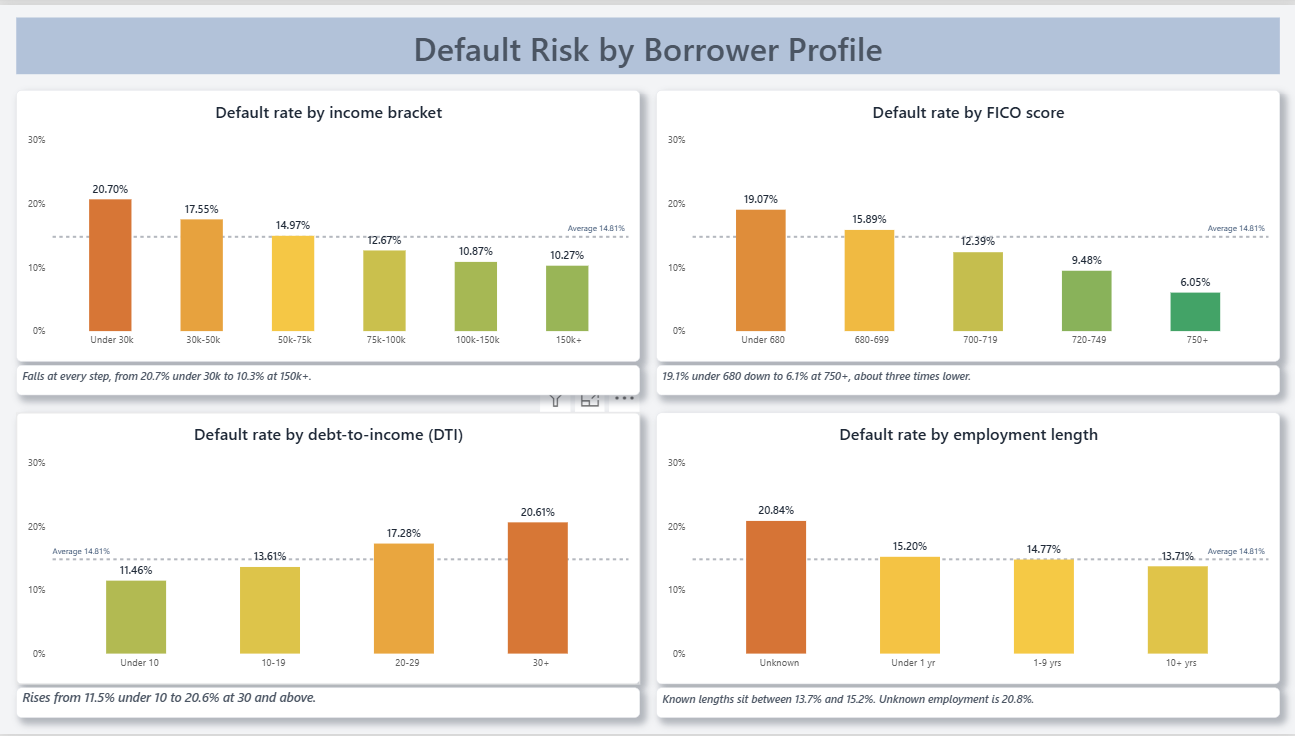

The dashboard page shown, as its layout file describes it:
{"tool":"powerbi","page":{"name":"Borrower Profile","canvas":[1920,1080],"ordinal":1},"visuals":[{"type":"textbox","box":[24,18,1872,84],"z":0},{"type":"clusteredColumnChart","title":"Default rate by income bracket","fields":{"Category":["loans_dashboard.income_label"],"Y":["loans_dashboard.Default Rate"]},"box":[24,126,924,402],"z":1000},{"type":"clusteredColumnChart","title":"Default rate by debt-to-income (DTI)","fields":{"Category":["loans_dashboard.dti_label"],"Y":["loans_dashboard.Default Rate"]},"box":[24,603,924,402],"z":2000},{"type":"clusteredColumnChart","title":"Default rate by employment length","fields":{"Category":["loans_dashboard.emp_label"],"Y":["loans_dashboard.Default Rate"]},"box":[972,603,924,402],"z":3000},{"type":"clusteredColumnChart","title":"Default rate by FICO score","fields":{"Category":["loans_dashboard.fico_label"],"Y":["loans_dashboard.Default Rate"]},"box":[972,126,924,402],"z":4000},{"type":"textbox","box":[24.1,534,924,45],"z":5000},{"type":"textbox","box":[972.2,534,924,45],"z":6000},{"type":"textbox","box":[24.1,1011,924,45],"z":7000},{"type":"textbox","box":[972.2,1011,924,45],"z":8000}]}

Visuals, with their boxes in screenshot pixels (x1, y1, x2, y2), scaled from the page's 1920x1080 canvas onto the 1295x736 screenshot:
textbox: bbox=[16, 12, 1279, 70]
"Default rate by income bracket" clusteredColumnChart: bbox=[16, 86, 639, 360]
"Default rate by debt-to-income (DTI)" clusteredColumnChart: bbox=[16, 411, 639, 685]
"Default rate by employment length" clusteredColumnChart: bbox=[656, 411, 1279, 685]
"Default rate by FICO score" clusteredColumnChart: bbox=[656, 86, 1279, 360]
textbox: bbox=[16, 364, 639, 395]
textbox: bbox=[656, 364, 1279, 395]
textbox: bbox=[16, 689, 639, 720]
textbox: bbox=[656, 689, 1279, 720]
